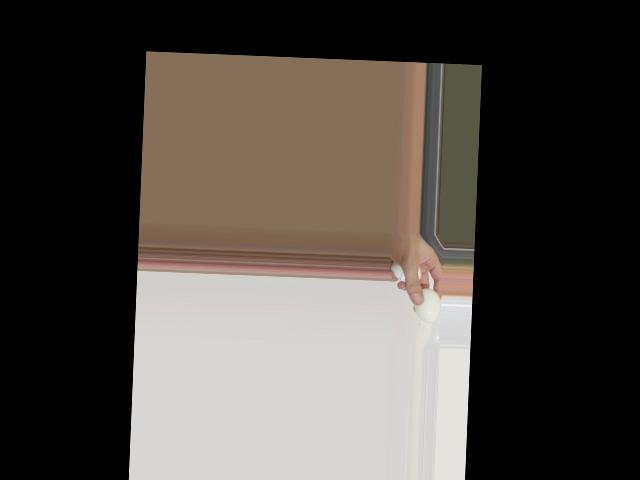egg: (412, 288, 441, 322)
